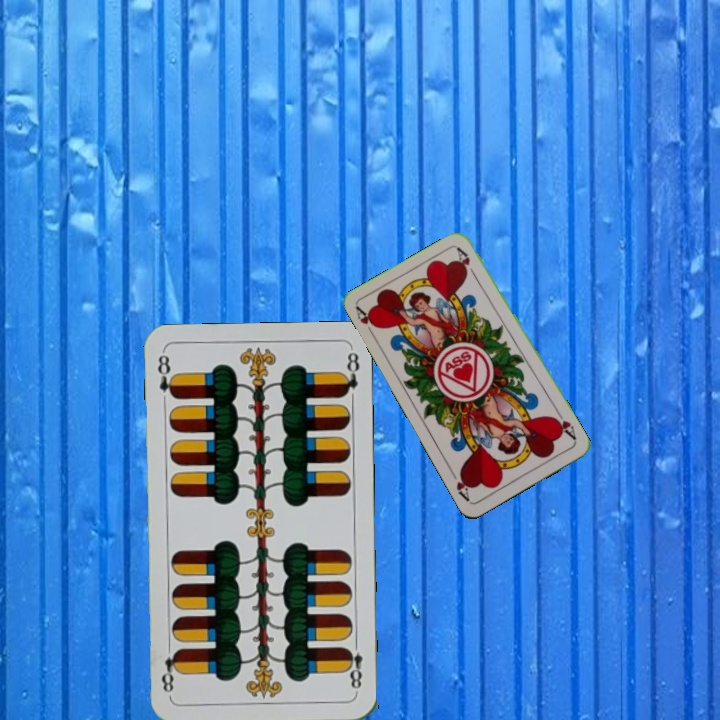E8: (342, 636, 365, 695), (154, 350, 178, 401)
HA: (549, 406, 579, 443), (352, 303, 381, 341)
